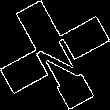N_NW: (25, 23, 85, 87)
